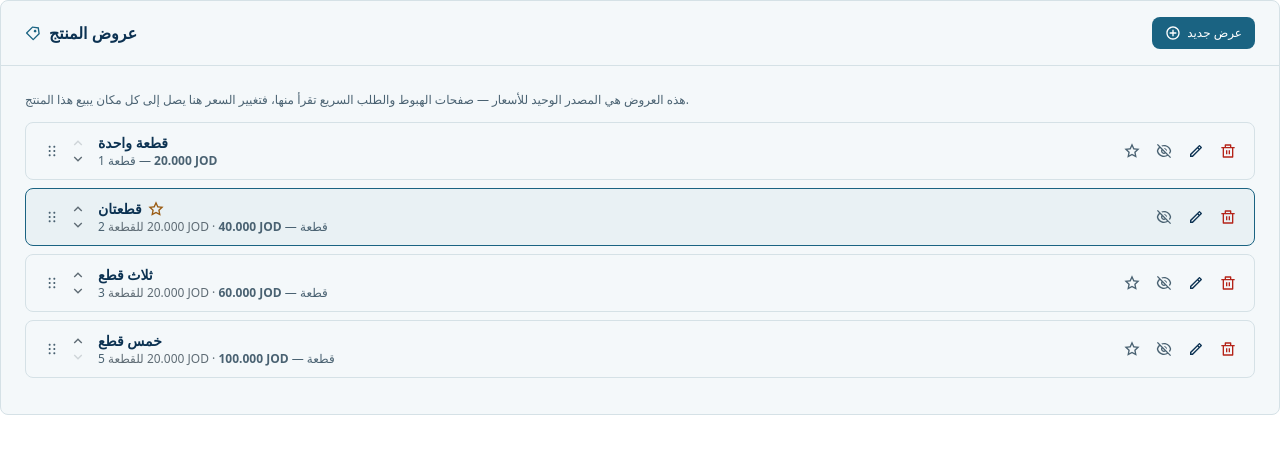
the arrows go through the one move › and a write the server refuses is SAID, and the list reads back as the server really holds it — not as it was drawn
Click the button named "لأسفل" below "قطعة واحدة" at (78, 158), box x1=70 y1=150 x2=86 y2=166
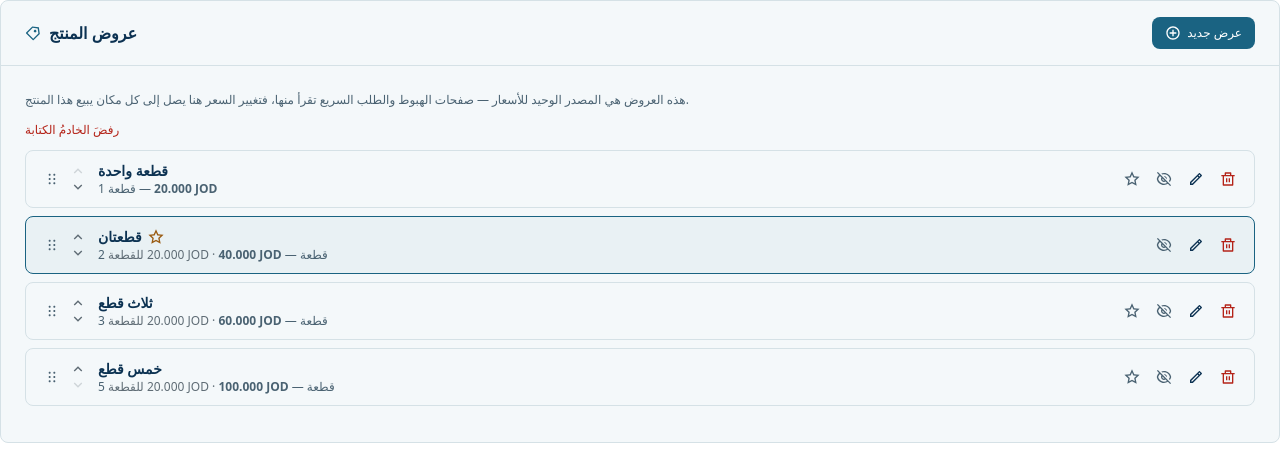
Expected: the button named "لأسفل" below "قطعة واحدة" is enabled, x1=70 y1=178 x2=86 y2=194
Now the text "رفضَ الخادمُ الكتابة" is shown, box x1=25 y1=120 x2=119 y2=138
